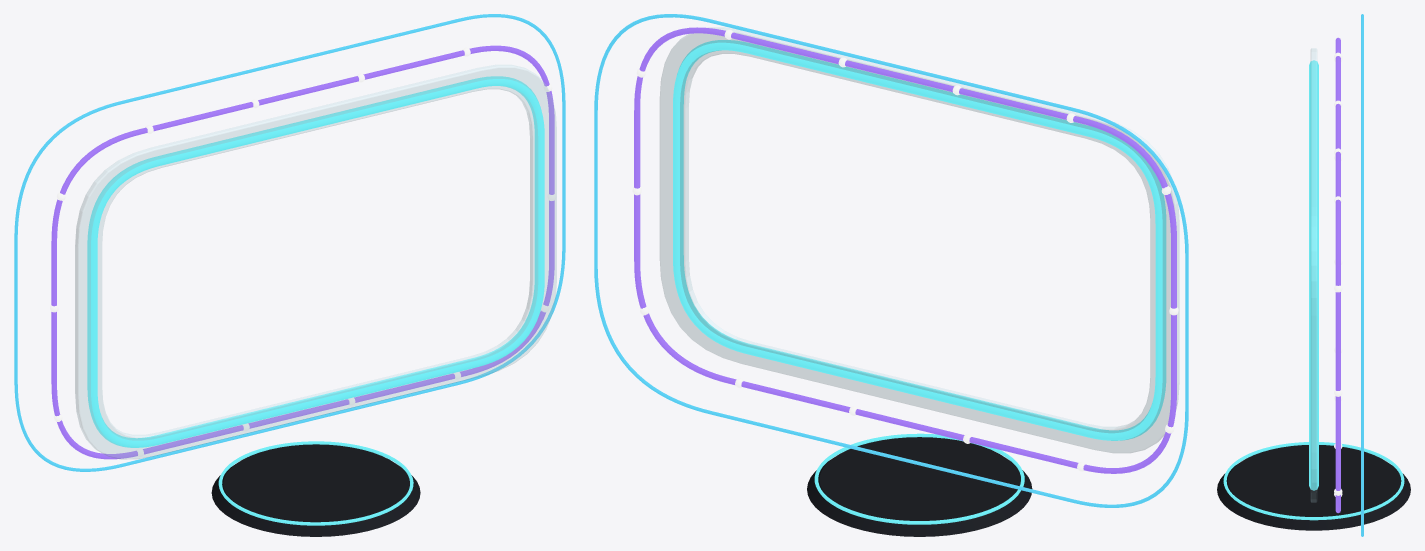
File: portal.glb
3 renders of one model, left to right at view 1: azimuth 30°, elevation 25°; view 2: azimuth 150°, elevation 25°; view 3: azimuth 270°, elevation 25°, orthographic. The views are drawn at different scales.
Parts seen in each view (by area): view 1: halo, ring-1, puck, ring-2, ring-3, puck-rim, nodes; view 2: halo, ring-1, puck, ring-2, ring-3, puck-rim, nodes; view 3: puck, ring-1, halo, ring-2, ring-3, puck-rim, nodes.
Part boxes in pixels (x1,y1,x2,y2): halo: (75, 65, 556, 459); ring-1: (87, 76, 544, 447); puck: (211, 444, 420, 536); ring-2: (51, 45, 554, 459); ring-3: (14, 14, 565, 471); puck-rim: (218, 441, 413, 525); nodes: (50, 47, 556, 457); halo: (660, 27, 1179, 452); ring-1: (673, 40, 1166, 440); puck: (807, 437, 1032, 536); ring-2: (634, 27, 1176, 473); ring-3: (594, 14, 1188, 507); puck-rim: (814, 433, 1024, 524); nodes: (632, 29, 1178, 471); puck: (1217, 445, 1410, 530); ring-1: (1309, 60, 1318, 490); halo: (1311, 48, 1316, 502); ring-2: (1335, 37, 1340, 513); ring-3: (1361, 14, 1363, 536); puck-rim: (1223, 442, 1404, 520); nodes: (1334, 52, 1342, 496).
Size of the model in its own units: 2.19 by 1.57 by 0.72.
